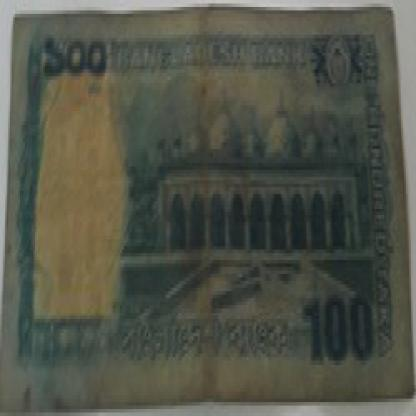one hundred taka: (303, 284, 376, 368), (36, 28, 112, 90)
